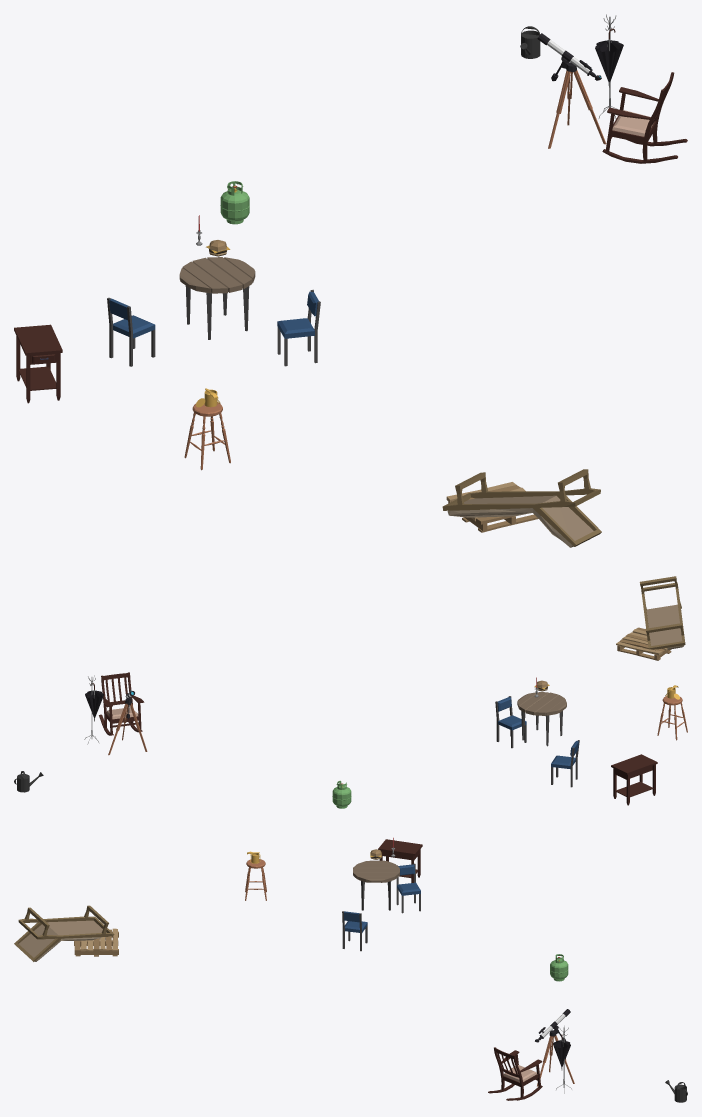
Rendered from active1.gltf.
3 renders of one model, top to bottom at view 1: azimuth 30°, elevation 25°; view 2: azimuth 150°, elevation 25°; view 3: azimuth 270°, elevation 25°, orthographic. The views are drawn at different scales.
Visible parts, largest first — view 1: Chaiselongue, table, Tablebasse, Rocking_chair, Telescope, chaise, chaise.001, Palette, Tabouré, Bouteille de gaz, Portemanteau; view 2: Chaiselongue, Tablebasse, Rocking_chair, table, Palette, chaise.001, chaise, Telescope, Tabouré, Portemanteau, Bouteille de gaz; view 3: Chaiselongue, Rocking_chair, table, Tablebasse, Palette, Telescope, chaise, chaise.001, Portemanteau.
Part boxes in pixels (x1=…): Chaiselongue: x1=442, y1=469, x2=601, y2=547; table: x1=179, y1=257, x2=255, y2=339; Tablebasse: x1=14, y1=324, x2=62, y2=403; Rocking_chair: x1=602, y1=72, x2=687, y2=163; Telescope: x1=537, y1=33, x2=606, y2=148; chaise: x1=107, y1=297, x2=155, y2=366; chaise.001: x1=277, y1=289, x2=320, y2=366; Palette: x1=446, y1=482, x2=538, y2=532; Tabouré: x1=184, y1=402, x2=230, y2=470; Bouteille de gaz: x1=220, y1=181, x2=249, y2=224; Portemanteau: x1=595, y1=14, x2=623, y2=118; Chaiselongue: x1=639, y1=576, x2=685, y2=649; Tablebasse: x1=611, y1=754, x2=657, y2=805; Rocking_chair: x1=99, y1=672, x2=144, y2=735; table: x1=517, y1=692, x2=566, y2=746; Palette: x1=616, y1=627, x2=671, y2=660; chaise.001: x1=495, y1=696, x2=526, y2=748; chaise: x1=551, y1=740, x2=579, y2=787; Telescope: x1=108, y1=690, x2=147, y2=755; Tabouré: x1=657, y1=696, x2=687, y2=740; Portemanteau: x1=84, y1=675, x2=103, y2=744; Bouteille de gaz: x1=332, y1=780, x2=351, y2=808; Chaiselongue: x1=14, y1=905, x2=114, y2=961; Rocking_chair: x1=488, y1=1047, x2=542, y2=1100; table: x1=353, y1=860, x2=399, y2=910; Tablebasse: x1=378, y1=839, x2=422, y2=882; Palette: x1=74, y1=928, x2=118, y2=956; Telescope: x1=535, y1=1009, x2=574, y2=1086; chaise: x1=396, y1=863, x2=420, y2=913; chaise.001: x1=342, y1=911, x2=367, y2=951; Portemanteau: x1=553, y1=1025, x2=571, y2=1093.
Bounding box in the file's own units: 47.15 × 8.49 × 57.28.
Materials: 5 (4 with a texture image).
